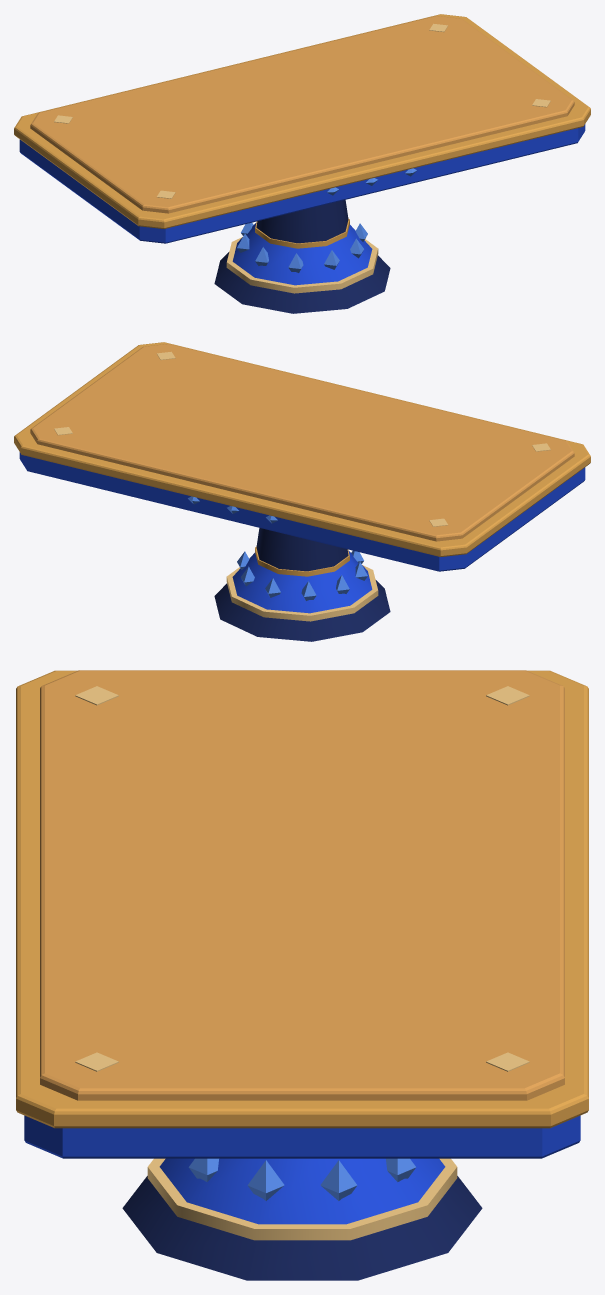
File: ban-lam-kim.glb
3 renders of one model, top to bottom at view 1: azimuth 30°, elevation 25°; view 2: azimuth 150°, elevation 25°; view 3: azimuth 270°, elevation 25°, orthographic. The views are drawn at different scales.
Visible parts, largest first — view 1: TableSurface, Viền đồng, Khung mặt bàn, Gót men lam, Đế đa giác, Cổ trụ, Vành chân, Viền gót; view 2: TableSurface, Viền đồng, Khung mặt bàn, Gót men lam, Đế đa giác, Cổ trụ, Vành chân, Viền gót; view 3: TableSurface, Viền đồng, Khung mặt bàn, Đế đa giác, Gót men lam, Vành chân, Họa tiết gót bàn (×2).
Boxes of the visible parts, x1,y1,x2,y2 form: TableSurface: (30, 16, 574, 213); Viền đồng: (14, 14, 590, 228); Khung mặt bàn: (19, 124, 585, 243); Gót men lam: (232, 222, 372, 285); Đế đa giác: (214, 252, 390, 313); Cổ trụ: (256, 200, 348, 243); Vành chân: (226, 237, 378, 293); Viền gót: (255, 218, 349, 248); TableSurface: (30, 344, 574, 541); Viền đồng: (14, 342, 590, 556); Khung mặt bàn: (19, 452, 585, 571); Gót men lam: (232, 550, 372, 613); Đế đa giác: (214, 580, 390, 641); Cổ trụ: (256, 528, 348, 571); Vành chân: (226, 565, 378, 621); Viền gót: (255, 546, 349, 576); TableSurface: (40, 670, 564, 1100); Viền đồng: (16, 670, 588, 1128); Khung mặt bàn: (24, 1115, 580, 1158); Đế đa giác: (122, 1176, 482, 1280); Gót men lam: (159, 1158, 445, 1224); Vành chân: (147, 1158, 457, 1240); Họa tiết gót bàn (×2): (247, 1160, 357, 1200).
Bounding box in the file's own units: 3.72 × 1.29 × 2.04.
